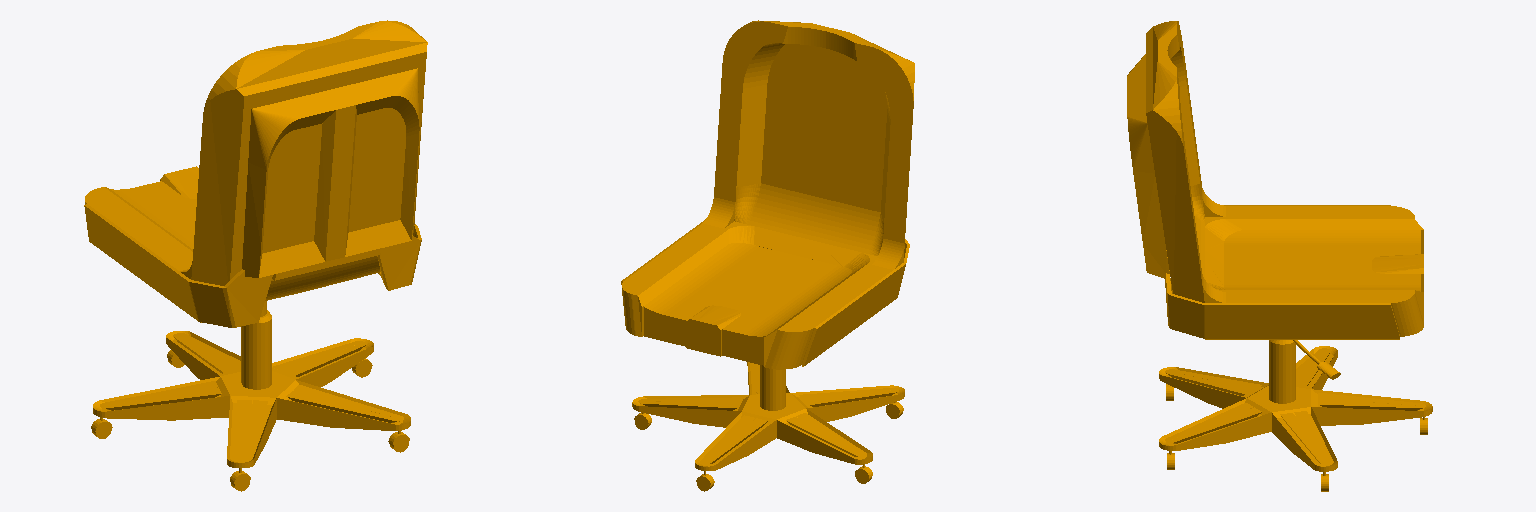
robot.urdf — c47f71319ead4eb8a4fb72f4f3b0e317:
<?xml version="1.0" ?>
<robot name="c47f71319ead4eb8a4fb72f4f3b0e317">

  <link name="base">

    <inertial>
      <mass value="1"/>
      <inertia ixx="1" ixy="0" ixz="0" iyy="1" iyz="0" izz="1"/>
    </inertial>

    <visual>
      <origin rpy="1.57079 0 0" xyz="0 0 0.22"/>
      <geometry>
        <mesh filename ="models/model_normalized.obj" scale="1 1 1"/>
      </geometry>
    </visual>

    <collision>
      <origin rpy="1.57079 0 0" xyz="0 0 0.22"/>
      <geometry>
        <mesh filename ="models/model_normalized.obj" scale="1 1 1"/>
      </geometry>
    </collision>

  </link>
  
</robot>

--- Render facts (derived) ---
The picture shows the robot from 3 angles, left to right: view 1: azimuth 30°, elevation 25°; view 2: azimuth 150°, elevation 25°; view 3: azimuth 270°, elevation 25°; orthographic projection.
Robot: c47f71319ead4eb8a4fb72f4f3b0e317 — 1 links, 0 joints (none); root link base; default pose: every joint at zero.
Visible links, largest first — view 1: base; view 2: base; view 3: base.
Boxes of the visible links, box(x1,y1,x2,y2) form: base: box(84, 20, 427, 491); base: box(621, 20, 914, 491); base: box(1127, 21, 1432, 491).
Bounding box of the posed robot: 0.4813 × 0.5114 × 0.7118 m (x, y, z).
1 mesh visuals loaded from 1 distinct referenced files (1 OBJ).
